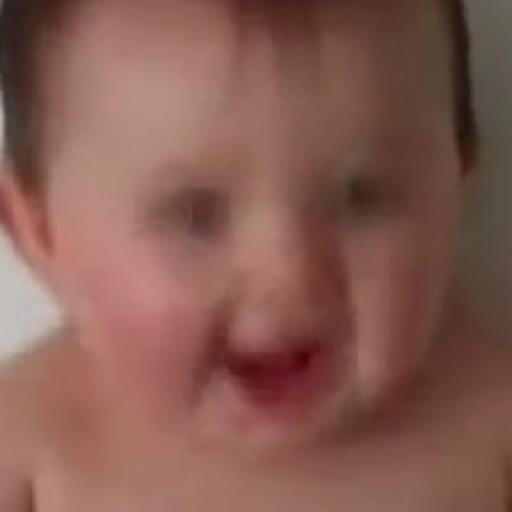Autism: (48, 26, 482, 483)
